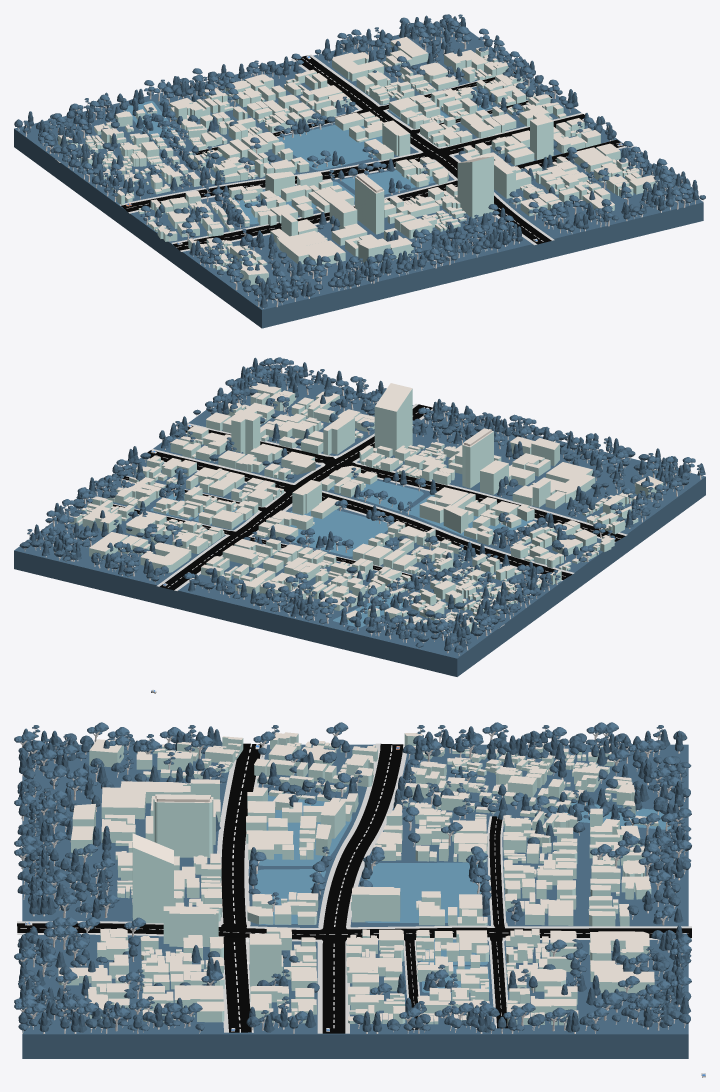
File: city_full.glb
The picture shows the model from 3 angles, top to bottom: view 1: azimuth 30°, elevation 25°; view 2: azimuth 150°, elevation 25°; view 3: azimuth 270°, elevation 25°; orthographic projection. The views are drawn at different scales.
Visible parts, largest first — view 1: map_2.osm_buildings, Cube.002, Cube.001, Plane.002, map_2.osm_areas_pedestrian.001, map_2.osm_areas_pedestrian.005; view 2: map_2.osm_buildings, Cube.002, Cube.001, Plane.002, map_2.osm_areas_pedestrian.001, map_2.osm_areas_pedestrian.005, map_2.osm_areas_pedestrian.004; view 3: map_2.osm_buildings, Cube.002, Plane.002, Cube.001, map_2.osm_areas_pedestrian.001, map_2.osm_areas_pedestrian.005, map_2.osm_areas_pedestrian.004, map_2.osm_areas_pedestrian.006.
Part boxes in pixels (left/top/right/bottom): map_2.osm_buildings: left=58, top=37, right=659, bottom=285; Cube.002: left=14, top=25, right=702, bottom=309; Cube.001: left=14, top=129, right=703, bottom=328; Plane.002: left=119, top=54, right=626, bottom=251; map_2.osm_areas_pedestrian.001: left=278, top=125, right=382, bottom=170; map_2.osm_areas_pedestrian.005: left=341, top=170, right=449, bottom=194; map_2.osm_buildings: left=69, top=382, right=663, bottom=632; Cube.002: left=14, top=372, right=705, bottom=658; Cube.001: left=14, top=477, right=705, bottom=676; Plane.002: left=90, top=403, right=627, bottom=590; map_2.osm_areas_pedestrian.001: left=284, top=510, right=391, bottom=556; map_2.osm_areas_pedestrian.005: left=330, top=476, right=423, bottom=511; map_2.osm_areas_pedestrian.004: left=406, top=495, right=535, bottom=539; map_2.osm_buildings: left=58, top=732, right=658, bottom=1025; Cube.002: left=22, top=744, right=688, bottom=1034; Plane.002: left=17, top=743, right=691, bottom=1033; Cube.001: left=22, top=1034, right=688, bottom=1058; map_2.osm_areas_pedestrian.001: left=364, top=862, right=481, bottom=922; map_2.osm_areas_pedestrian.005: left=255, top=869, right=325, bottom=924; map_2.osm_areas_pedestrian.004: left=257, top=795, right=351, bottom=865; map_2.osm_areas_pedestrian.006: left=556, top=802, right=670, bottom=829.
Bounding box in the file's own units: 4.57 × 1.55 × 4.55.
